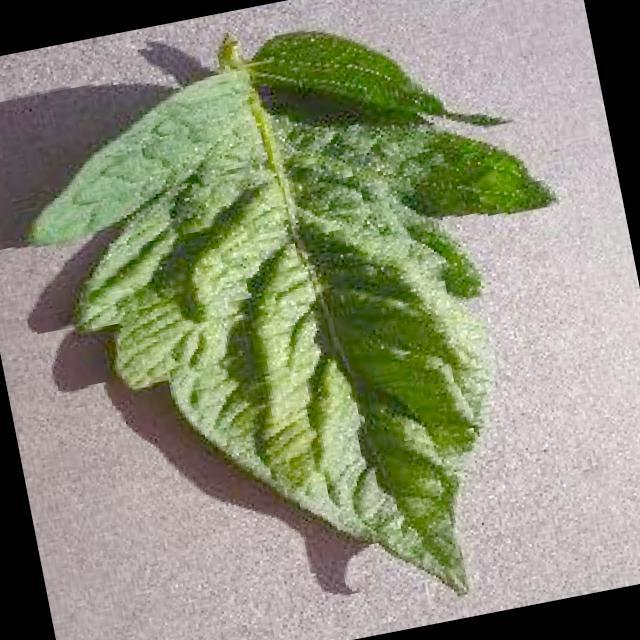Tomato spider mites leaf: (0, 0, 628, 640)
